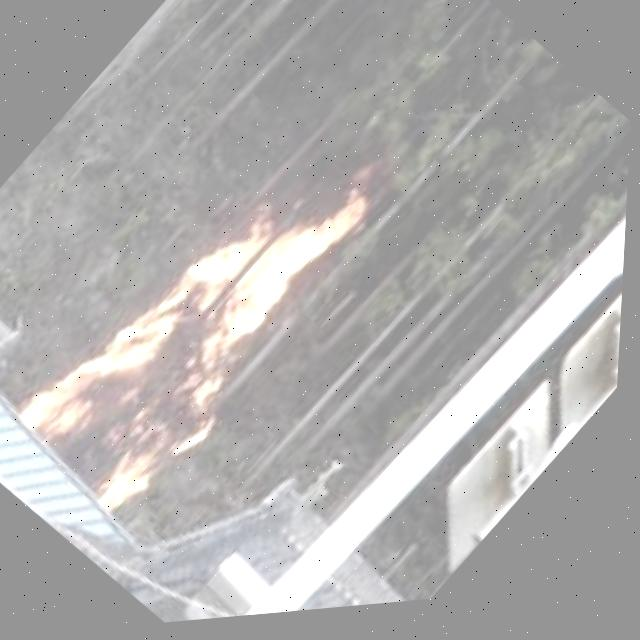Fire: (15, 136, 389, 536)
